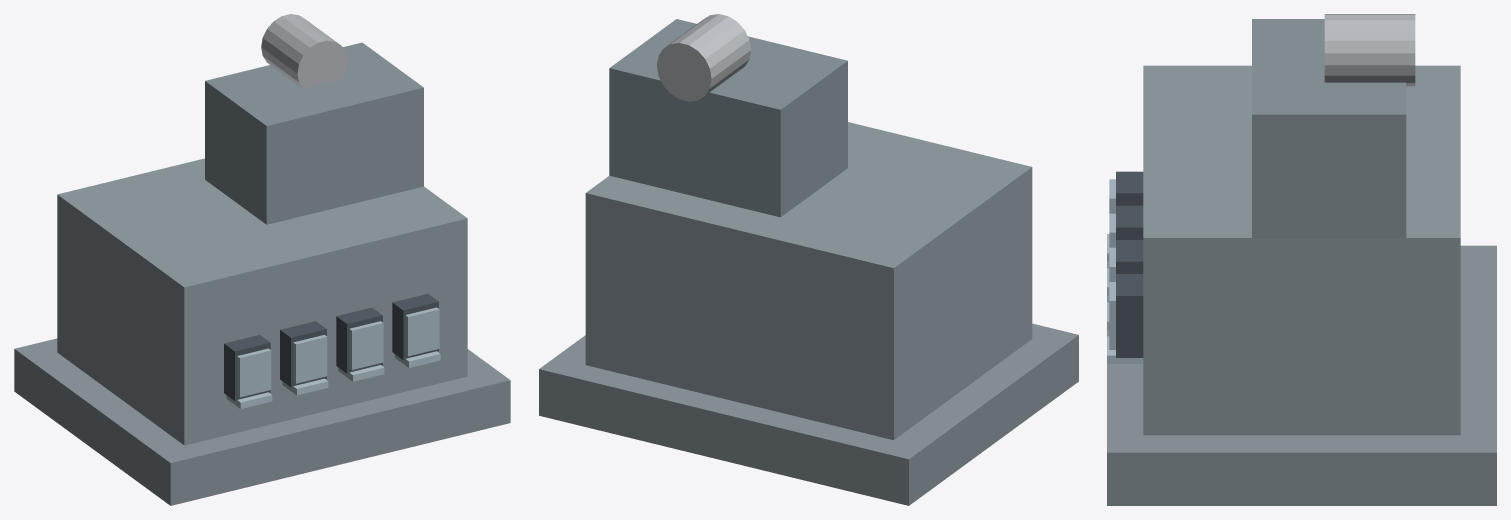
File: building-small-c.glb
3 views of the same model, side by side, from view 1: azimuth 30°, elevation 25°; view 2: azimuth 150°, elevation 25°; view 3: azimuth 270°, elevation 25° (orthographic). The views are drawn at different scales.
Parts seen in each view (by area): view 1: world; view 2: world; view 3: world.
Part boxes in pixels (bbox=[...]): world: bbox=[14, 14, 510, 505]; world: bbox=[539, 14, 1078, 505]; world: bbox=[1107, 14, 1496, 505].
Bounding box in the file's own units: 1.08 × 1.04 × 0.86.
